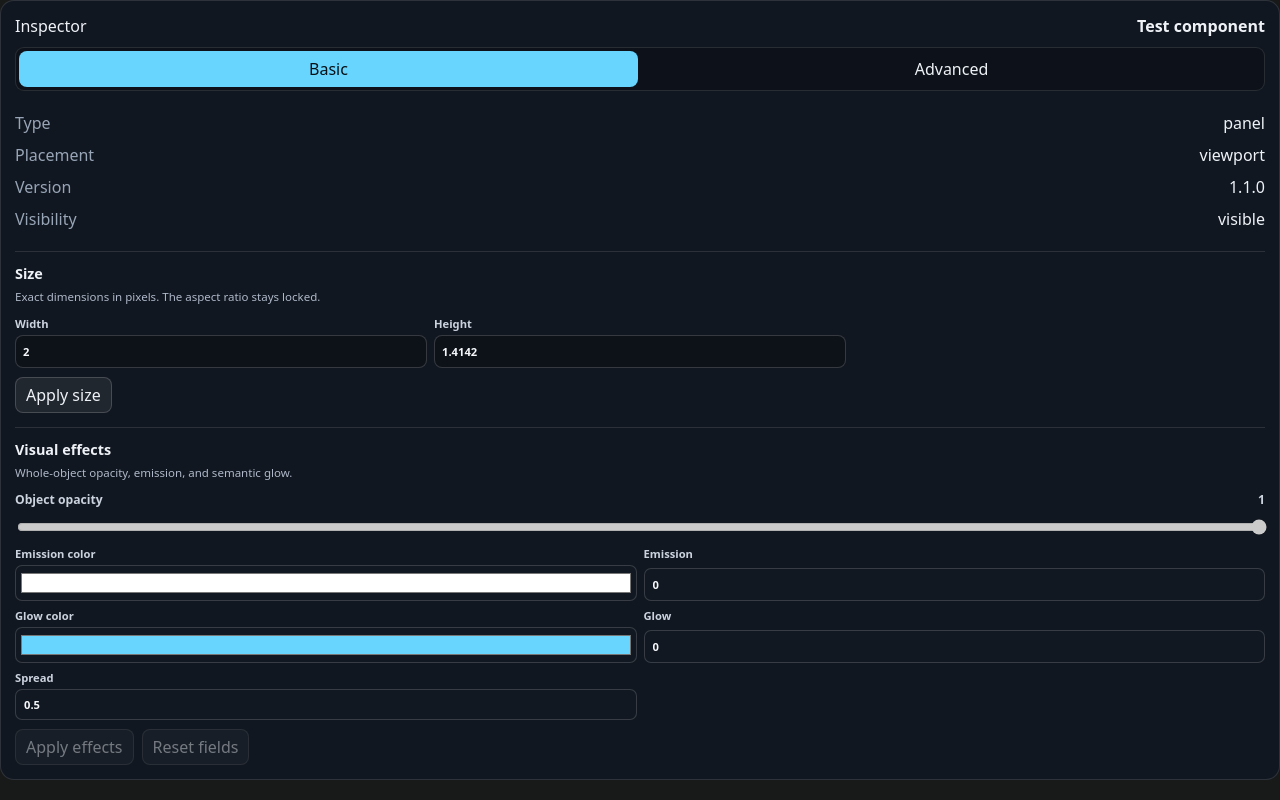
Scenario: Workspace resize Inspector controls › rejects truncated irrational aspect geometry before the Store boundary
This screenshot has width=1280, height=800.
Click the button "Apply size" at [63, 395], box [15, 377, 112, 413]
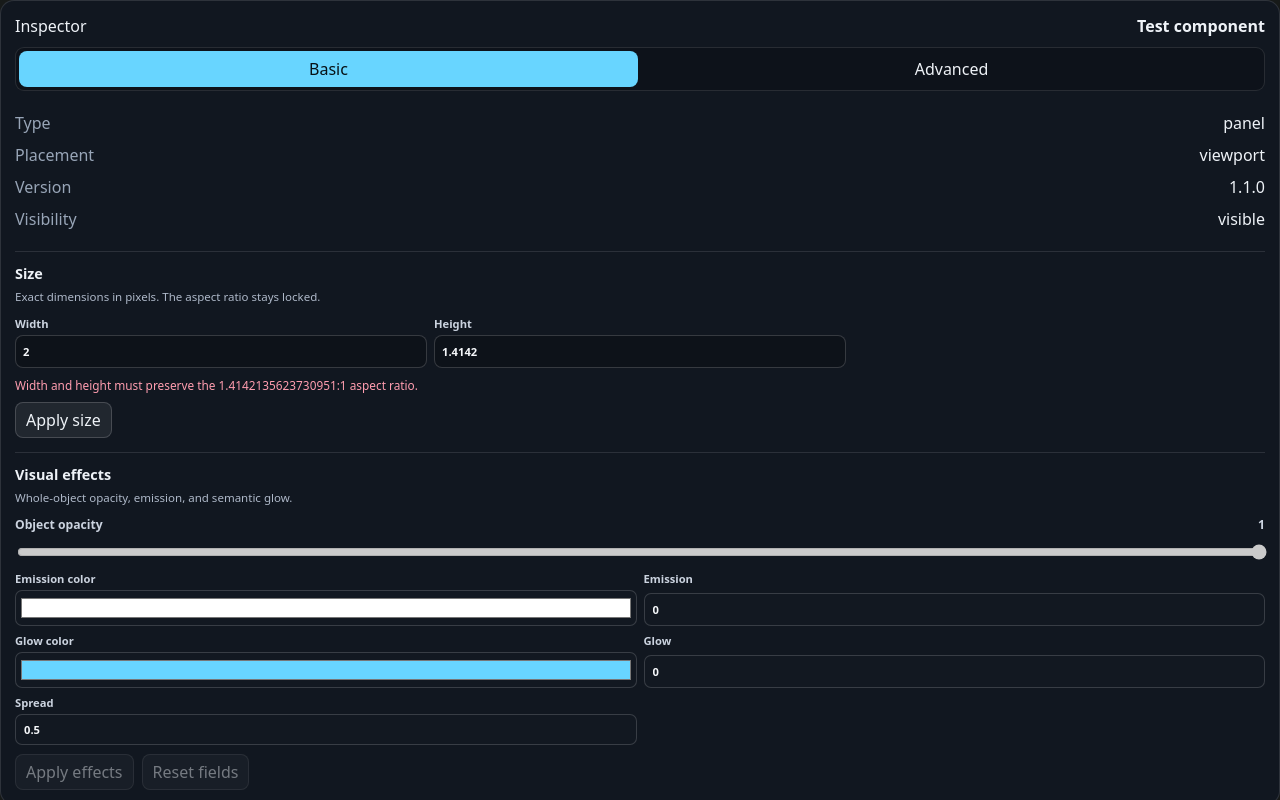
Result: the message shows "must preserve" at [15, 377, 418, 393]
